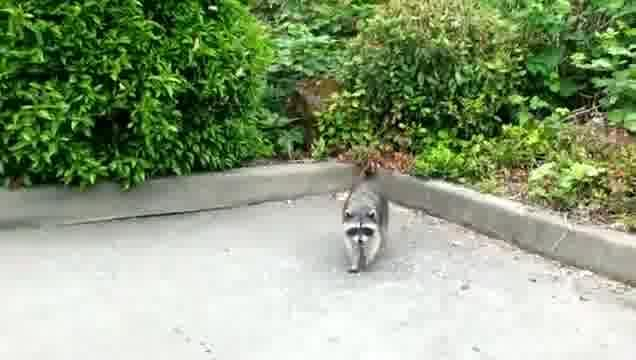raccoon: (336, 184, 393, 280)
